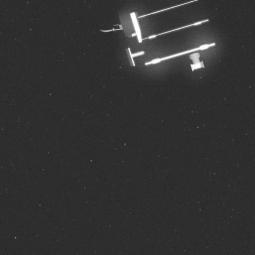earth_observation_sat_1: (92, 0, 224, 84)
